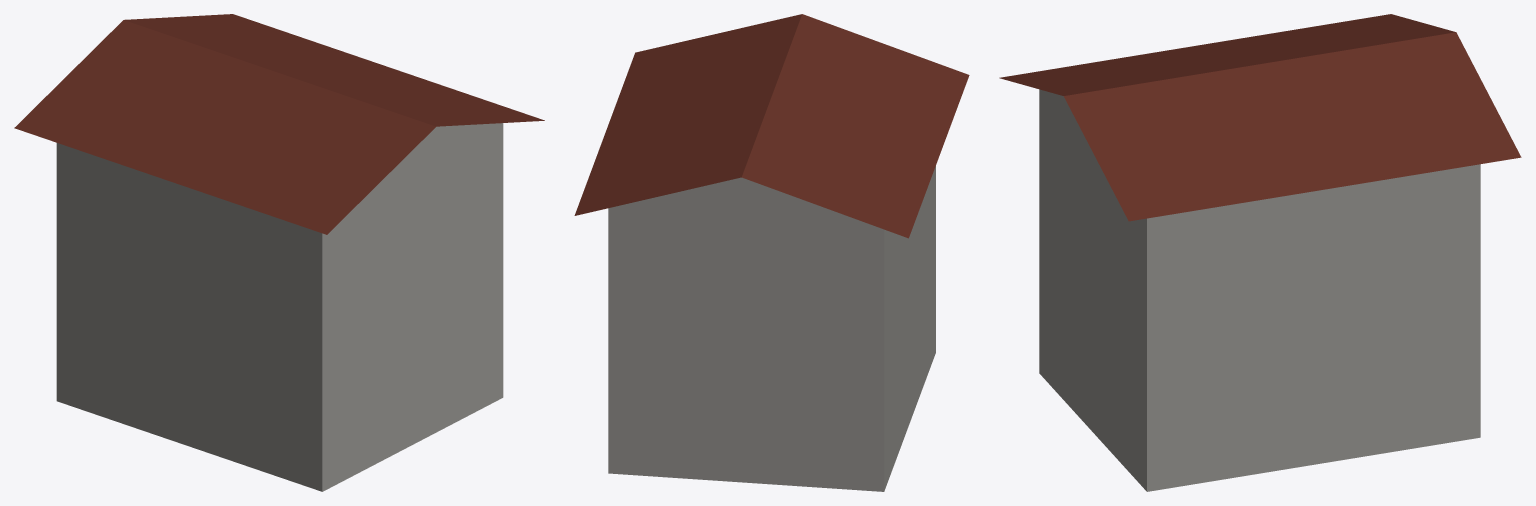
The picture shows the model from 3 angles, left to right: view 1: azimuth 30°, elevation 25°; view 2: azimuth 150°, elevation 25°; view 3: azimuth 270°, elevation 25°; orthographic projection. The views are drawn at different scales.
Parts seen in each view (by area): view 1: buildings; view 2: buildings; view 3: buildings.
Part boxes in pixels (<box>): buildings: <box>14,14,544,491</box>; buildings: <box>574,14,969,491</box>; buildings: <box>999,14,1521,491</box>.
Bounding box in the file's own units: 4.64 × 3.56 × 4.95.
